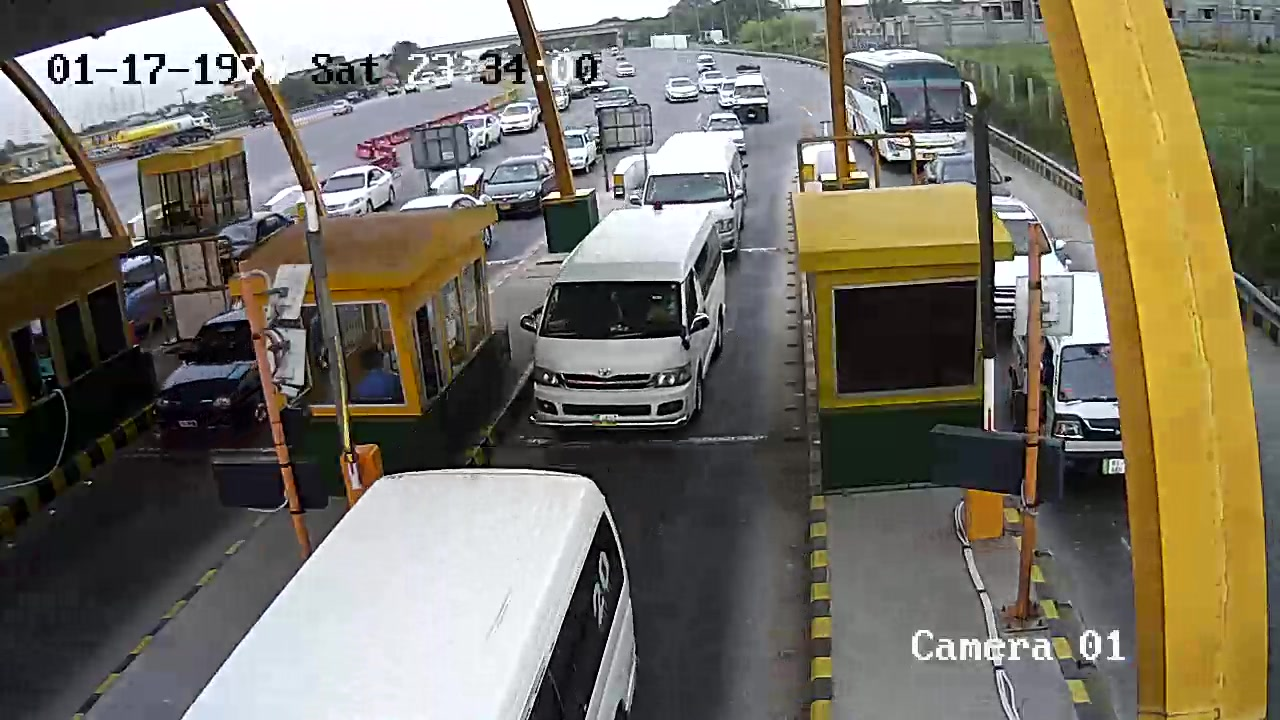F3: (520, 206, 743, 439)
